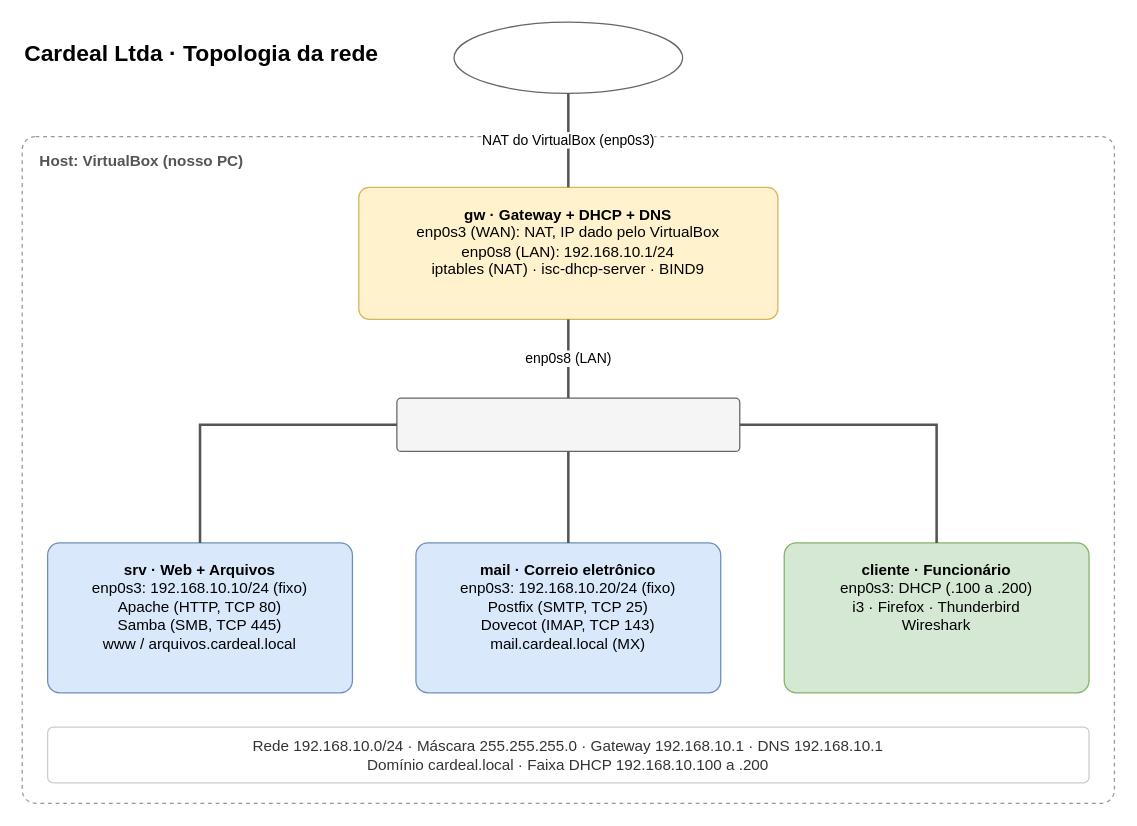
The diagram is 1137 pixels wide and 826 high, and some of its shapes have lost their labels. The shapes that lost their labels are listed below. From the top down, each one's centre as x and y in pixels, then its label:
At point 568,57: "Internet".
At point 568,424: "Switch virtual · Rede Interna cardeal-lan".
